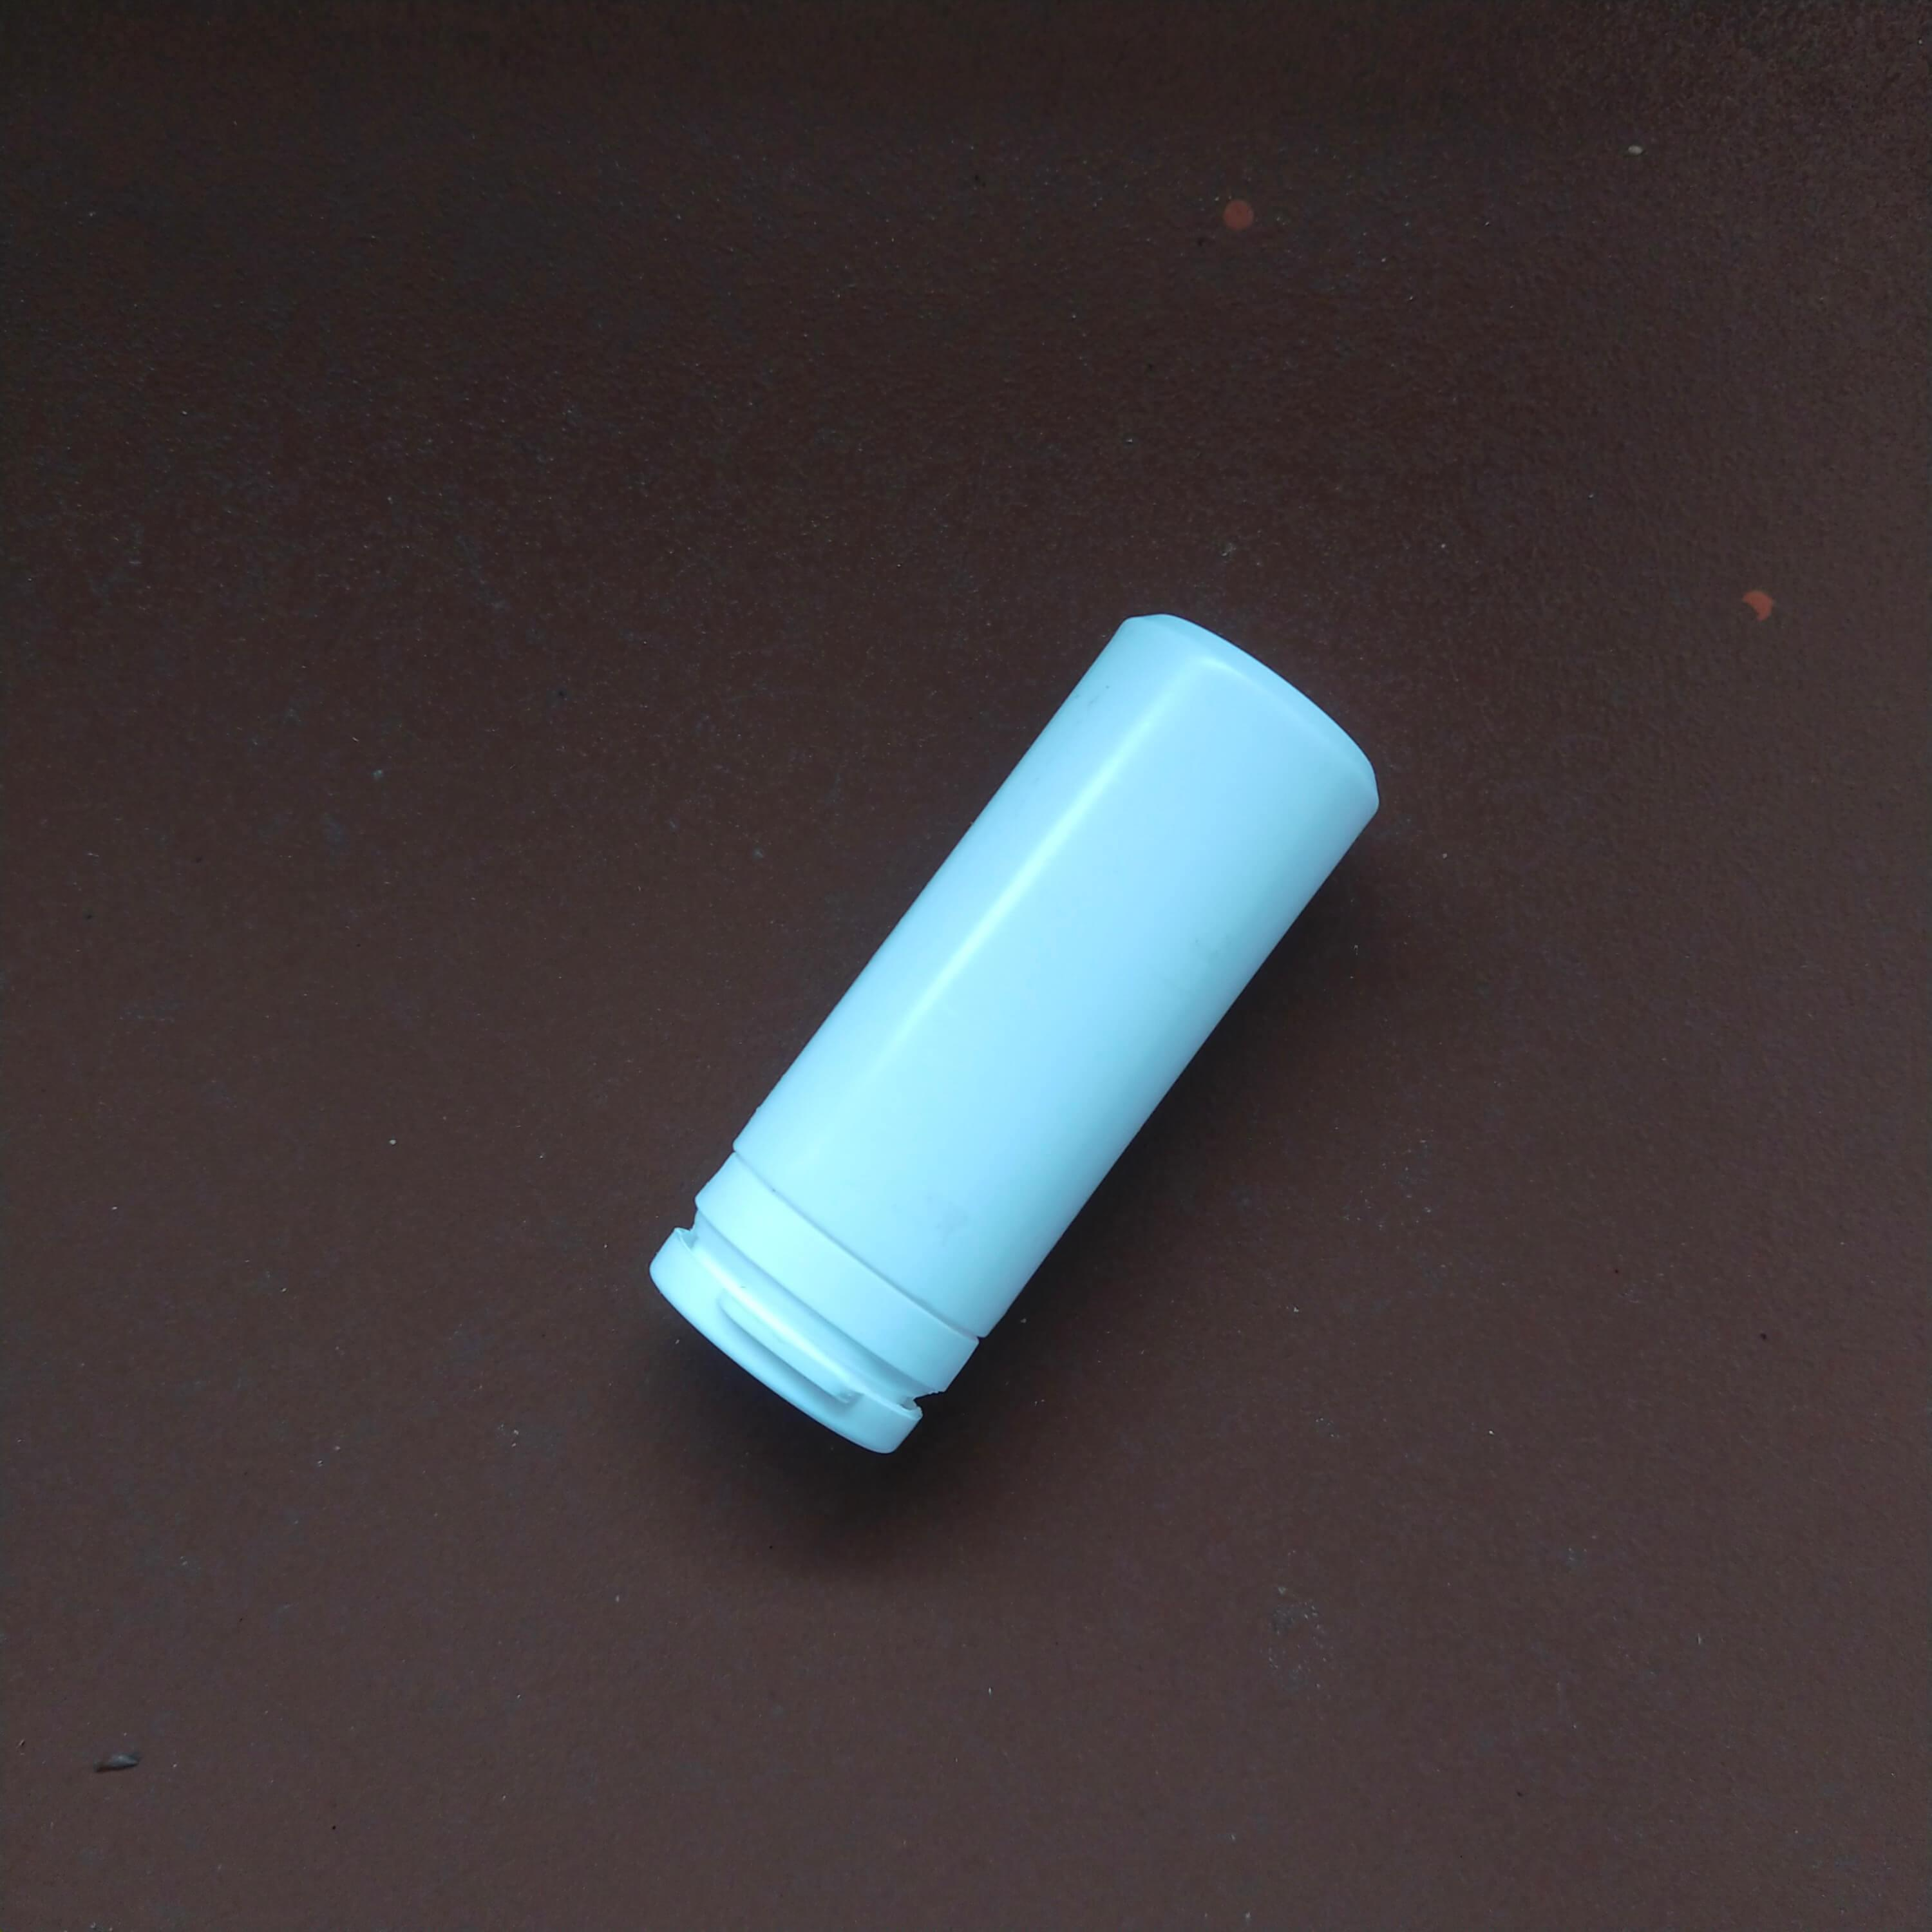plastic box: (587, 584, 1408, 1491)
